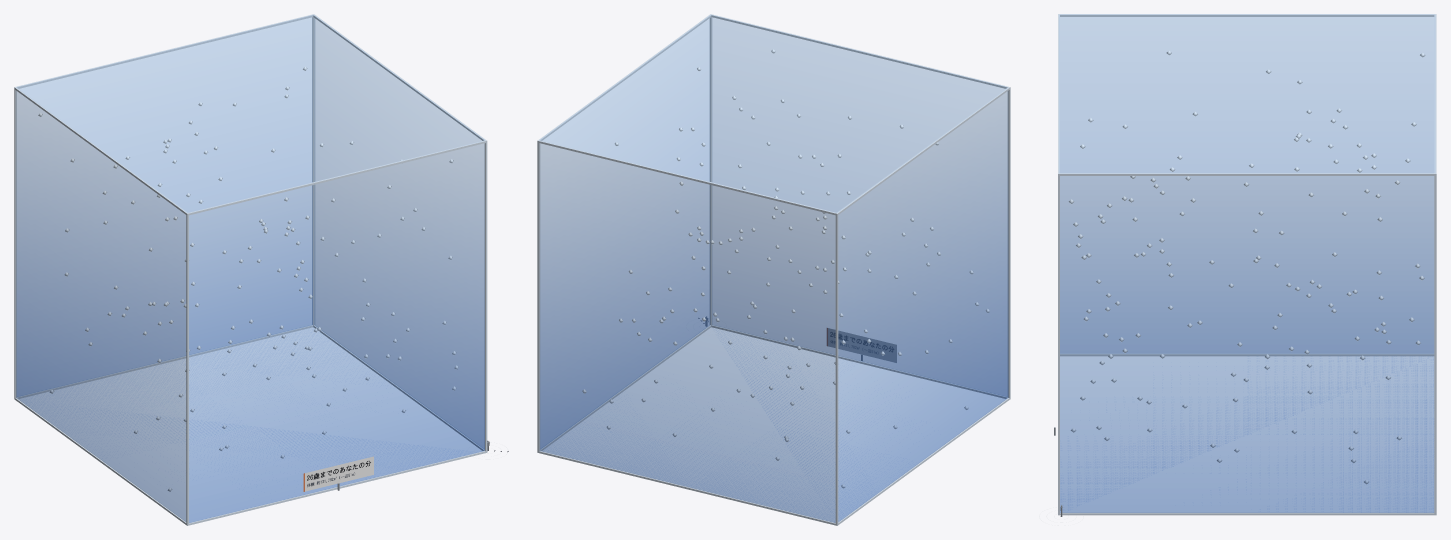
The model's file is cube_life_26.glb.
3 views of the same model, side by side, from view 1: azimuth 30°, elevation 25°; view 2: azimuth 150°, elevation 25°; view 3: azimuth 270°, elevation 25° (orthographic). The views are drawn at different scales.
Parts seen in each view (by area): view 1: co2, edge, dots, label; view 2: co2, edge, dots, label; view 3: co2, edge, dots.
Part boxes in pixels (box(x1,y1,x2,y2)): co2: box(16, 15, 484, 522); edge: box(14, 14, 487, 525); dots: box(38, 66, 458, 491); label: box(303, 456, 373, 491); co2: box(540, 15, 1008, 522); edge: box(537, 14, 1010, 525); dots: box(582, 49, 989, 488); label: box(827, 328, 896, 362); co2: box(1059, 14, 1435, 512); edge: box(1058, 14, 1436, 515); dots: box(1068, 50, 1425, 484).
Bounding box in the file's own units: 54.61 × 50.89 × 53.71.
Materials: 8 (3 with a texture image).
